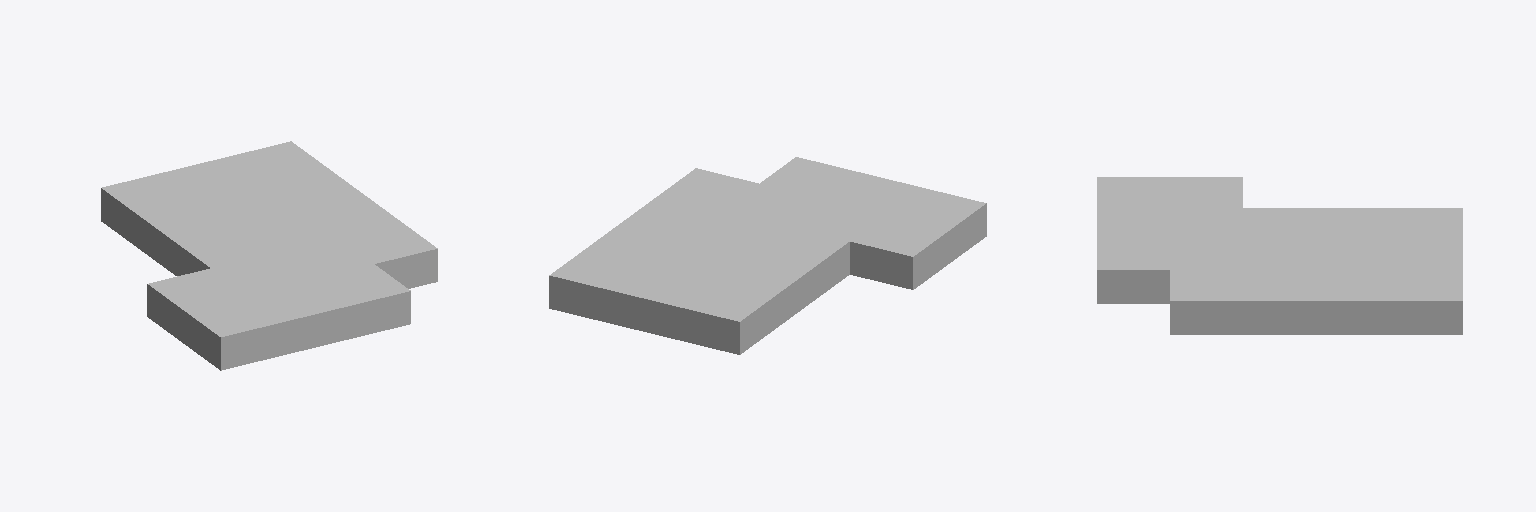
File: 30s_block.obj
3 views of the same model, side by side, from view 1: azimuth 30°, elevation 25°; view 2: azimuth 150°, elevation 25°; view 3: azimuth 270°, elevation 25° (orthographic).
Parts seen in each view (by area): view 1: block.1.0_block.3537, block.2.0_block.3539, block.3.0_block.3544, block.4.1_block.3550, block.2.3_block.3542, block.1.1_block.3538, block.2.4_block.3543, block.2.2_block.3541, block.2.1_block.3540, block.3.4_block.3548, block.4.3_block.3552, block.3.1_block.3545 (+4 smaller); view 2: block.2.4_block.3543, block.1.1_block.3538, block.4.4_block.3553, block.3.4_block.3548, block.1.0_block.3537, block.2.2_block.3541, block.2.3_block.3542, block.3.0_block.3544, block.4.1_block.3550, block.2.1_block.3540, block.3.2_block.3546, block.3.3_block.3547 (+4 smaller); view 3: block.4.2_block.3551, block.3.0_block.3544, block.4.1_block.3550, block.4.3_block.3552, block.4.4_block.3553, block.2.2_block.3541, block.3.2_block.3546, block.1.0_block.3537, block.1.1_block.3538, block.2.0_block.3539, block.2.1_block.3540, block.2.3_block.3542 (+4 smaller).
Boxes of the visible parts, box(x1,y1,x2,y2) form: block.1.0_block.3537: box(184, 295, 283, 370); block.2.0_block.3539: box(248, 280, 347, 354); block.3.0_block.3544: box(312, 264, 410, 339); block.4.1_block.3550: box(338, 222, 437, 288); block.2.3_block.3542: box(137, 199, 236, 273); block.1.1_block.3538: box(147, 268, 246, 343); block.2.4_block.3543: box(101, 172, 199, 246); block.2.2_block.3541: box(174, 226, 273, 275); block.2.1_block.3540: box(211, 253, 310, 294); block.3.4_block.3548: box(165, 157, 263, 198); block.4.3_block.3552: box(265, 168, 363, 209); block.3.1_block.3545: box(275, 237, 373, 279); block.2.4_block.3543: box(676, 280, 776, 354); block.1.1_block.3538: box(850, 215, 949, 289); block.4.4_block.3553: box(549, 249, 648, 323); block.3.4_block.3548: box(613, 264, 711, 339); block.1.0_block.3537: box(887, 188, 986, 262); block.2.2_block.3541: box(750, 226, 849, 300); block.2.3_block.3542: box(713, 253, 812, 327); block.3.0_block.3544: box(760, 157, 858, 198); block.4.1_block.3550: box(660, 168, 758, 209); block.2.1_block.3540: box(787, 199, 885, 240); block.3.2_block.3546: box(687, 211, 785, 252); block.3.3_block.3547: box(650, 237, 748, 279); block.4.2_block.3551: box(1243, 270, 1316, 334); block.3.0_block.3544: box(1097, 239, 1169, 303); block.4.1_block.3550: box(1170, 270, 1242, 334); block.4.3_block.3552: box(1317, 270, 1389, 334); block.4.4_block.3553: box(1390, 270, 1462, 334); block.2.2_block.3541: box(1243, 208, 1316, 238); block.3.2_block.3546: box(1243, 239, 1316, 269); block.1.0_block.3537: box(1097, 177, 1169, 207); block.1.1_block.3538: box(1170, 177, 1242, 207); block.2.0_block.3539: box(1097, 208, 1169, 238); block.2.1_block.3540: box(1170, 208, 1242, 238); block.2.3_block.3542: box(1317, 208, 1389, 238).
Size of the model in its own units: 8 by 1 by 10.